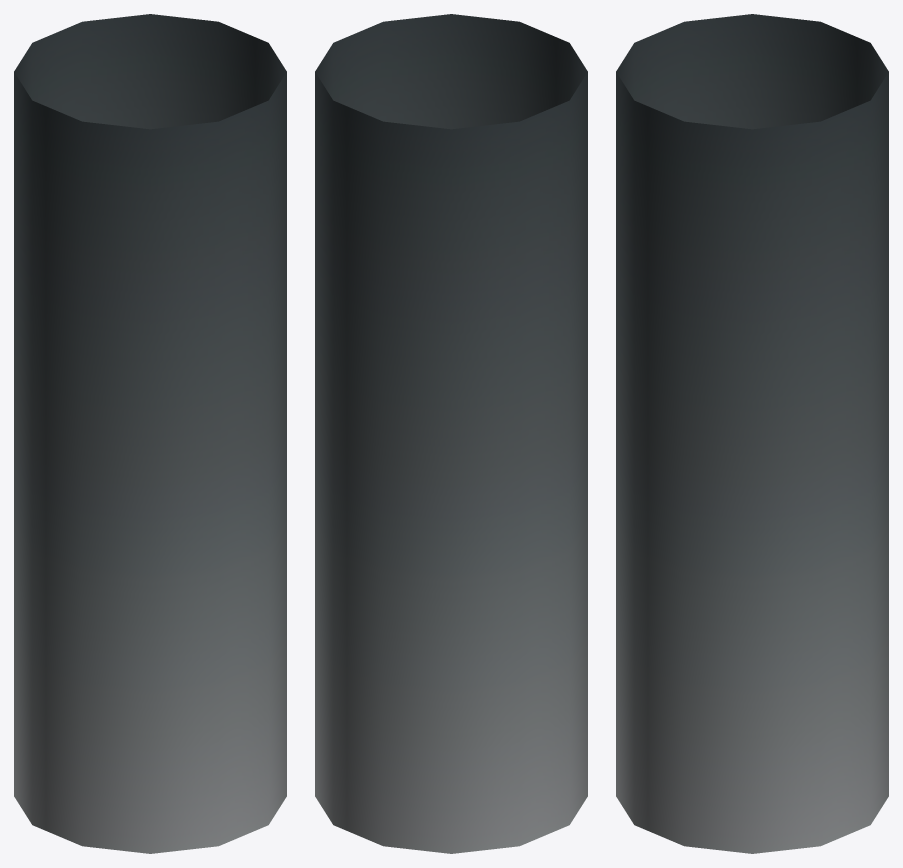
File: Claw_Piston_01.fbx
The picture shows the model from 3 angles, left to right: view 1: azimuth 30°, elevation 25°; view 2: azimuth 150°, elevation 25°; view 3: azimuth 270°, elevation 25°; orthographic projection.
Parts seen in each view (by area): view 1: Claw_Piston_01; view 2: Claw_Piston_01; view 3: Claw_Piston_01.
Boxes of the visible parts, x1,y1,x2,y2 form: Claw_Piston_01: [14, 14, 286, 853]; Claw_Piston_01: [315, 14, 587, 853]; Claw_Piston_01: [616, 14, 888, 853].
Size of the model in its own units: 4.01 by 4.01 by 11.74.
